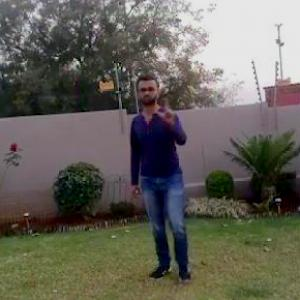land_hand: (151, 90, 182, 124)
